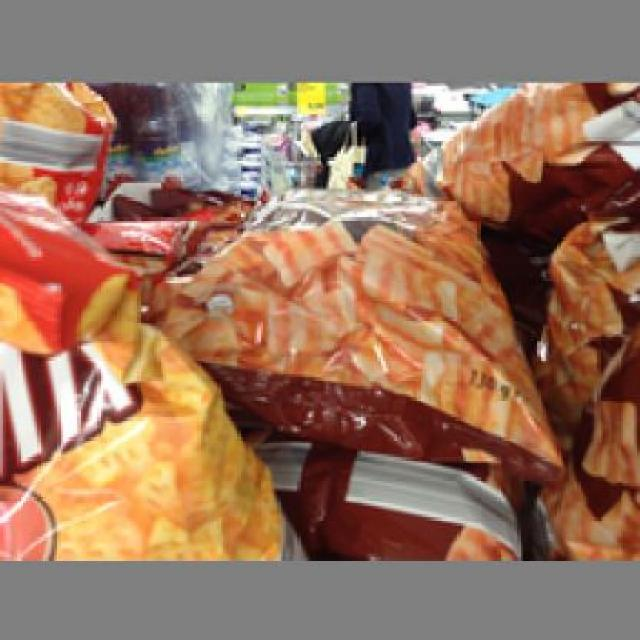Chips: (169, 162, 580, 468), (383, 83, 637, 223)
